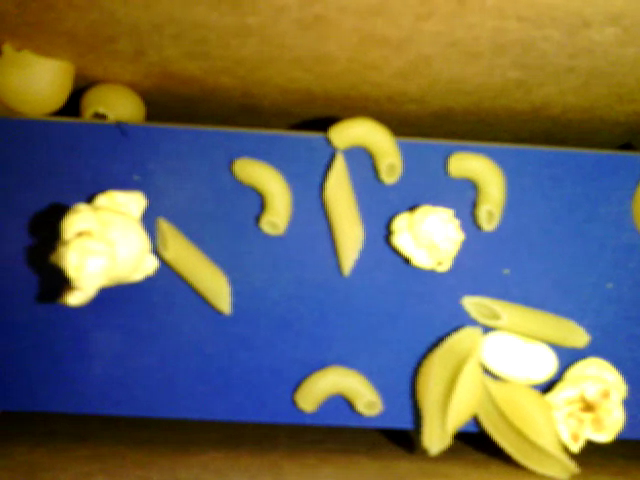elbow: (327, 117, 402, 185), (230, 156, 292, 236), (447, 152, 507, 231), (294, 364, 381, 417)
penne: (460, 294, 591, 349), (157, 217, 231, 313), (321, 150, 363, 278)
shell: (474, 371, 579, 479), (416, 326, 483, 455), (1, 43, 75, 117), (80, 83, 143, 121)
